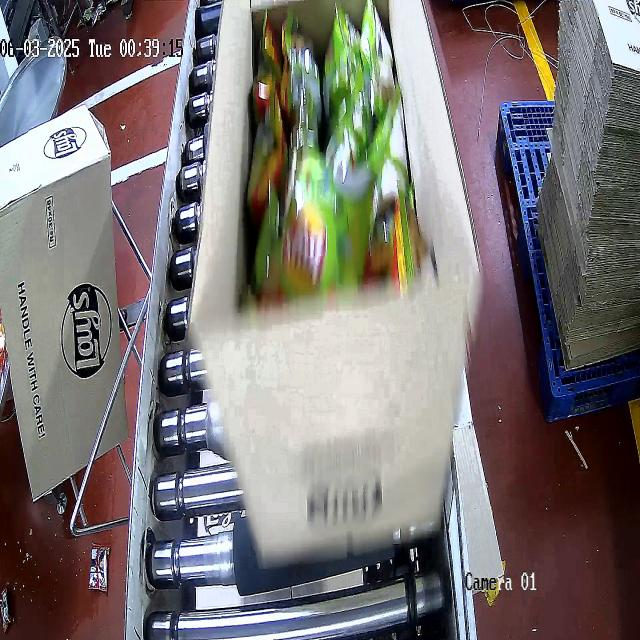YOGURT_HERB: (250, 4, 418, 298)
